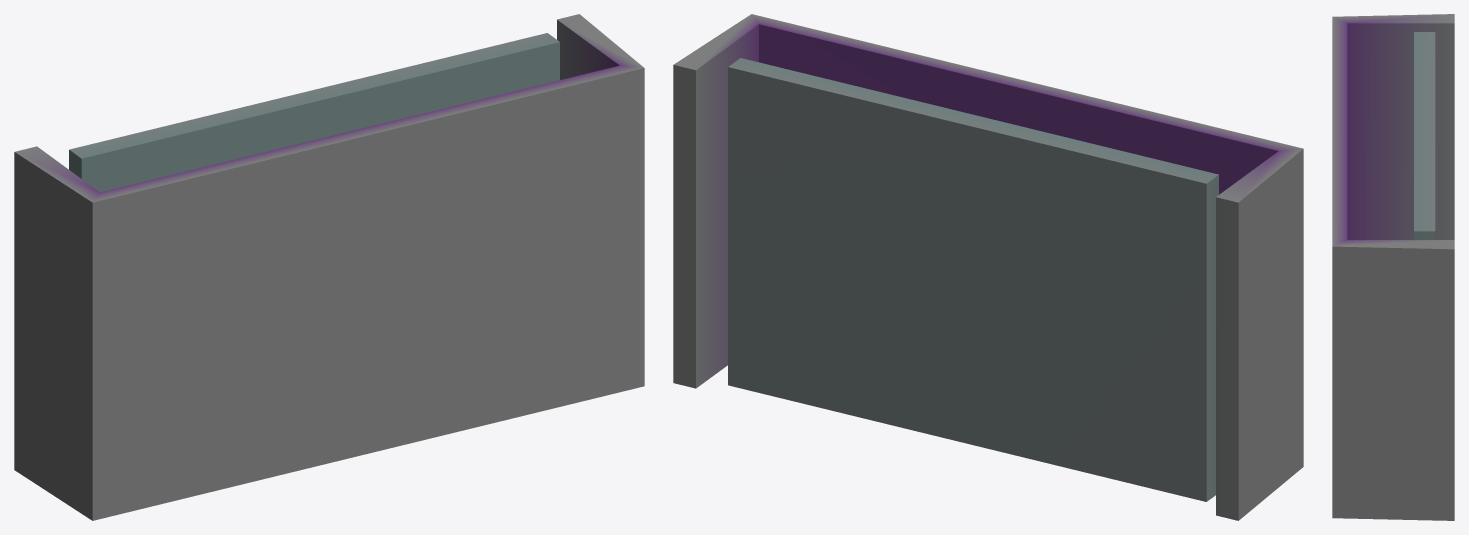
The picture shows the model from 3 angles, left to right: view 1: azimuth 30°, elevation 25°; view 2: azimuth 150°, elevation 25°; view 3: azimuth 270°, elevation 25°; orthographic projection. The views are drawn at different scales.
Parts seen in each view (by area): view 1: enclosure, inset; view 2: inset, enclosure; view 3: enclosure, inset.
Part boxes in pixels (x1,y1,x2,y2): enclosure: [14, 14, 644, 520]; inset: [69, 33, 559, 192]; inset: [728, 58, 1218, 501]; enclosure: [673, 14, 1303, 520]; enclosure: [1332, 14, 1454, 520]; inset: [1414, 32, 1435, 239].
Size of the model in its own units: 0.3 by 0.1615 by 0.0658.
